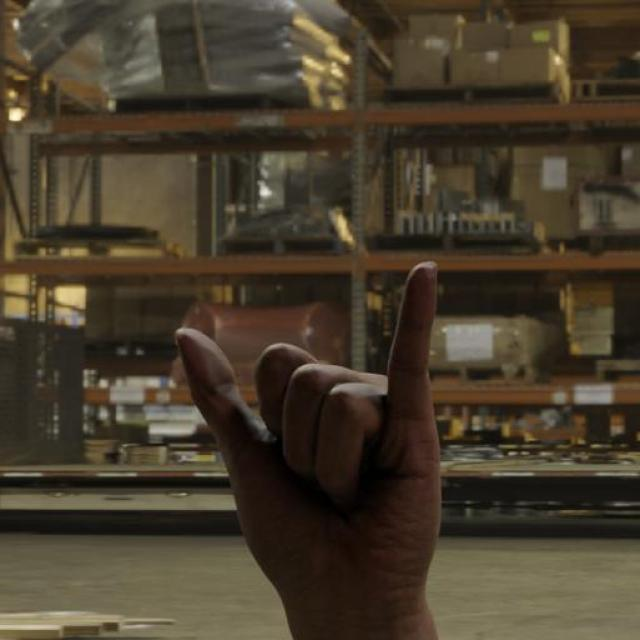Y: (136, 219, 490, 640)
